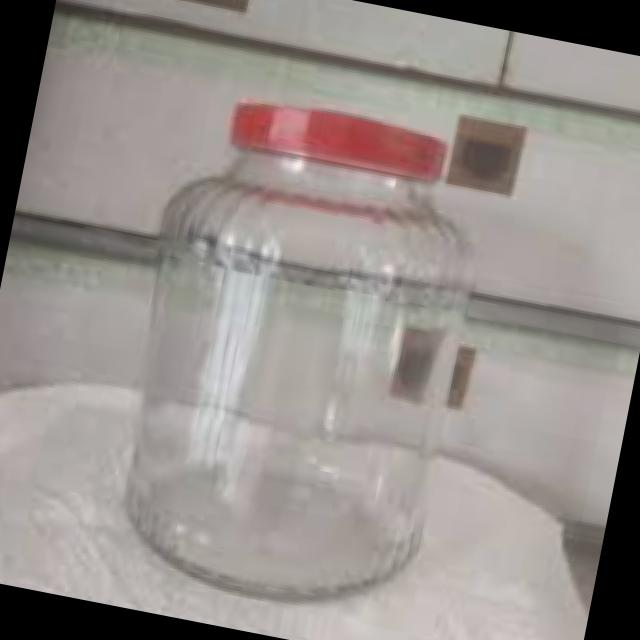ToplesKaca: (90, 76, 507, 628)
